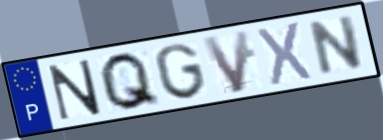G: (152, 41, 209, 102)
N: (308, 12, 366, 79), (46, 57, 104, 123)
Q: (97, 50, 164, 113)
V: (199, 27, 252, 96)
X: (254, 19, 315, 88)
